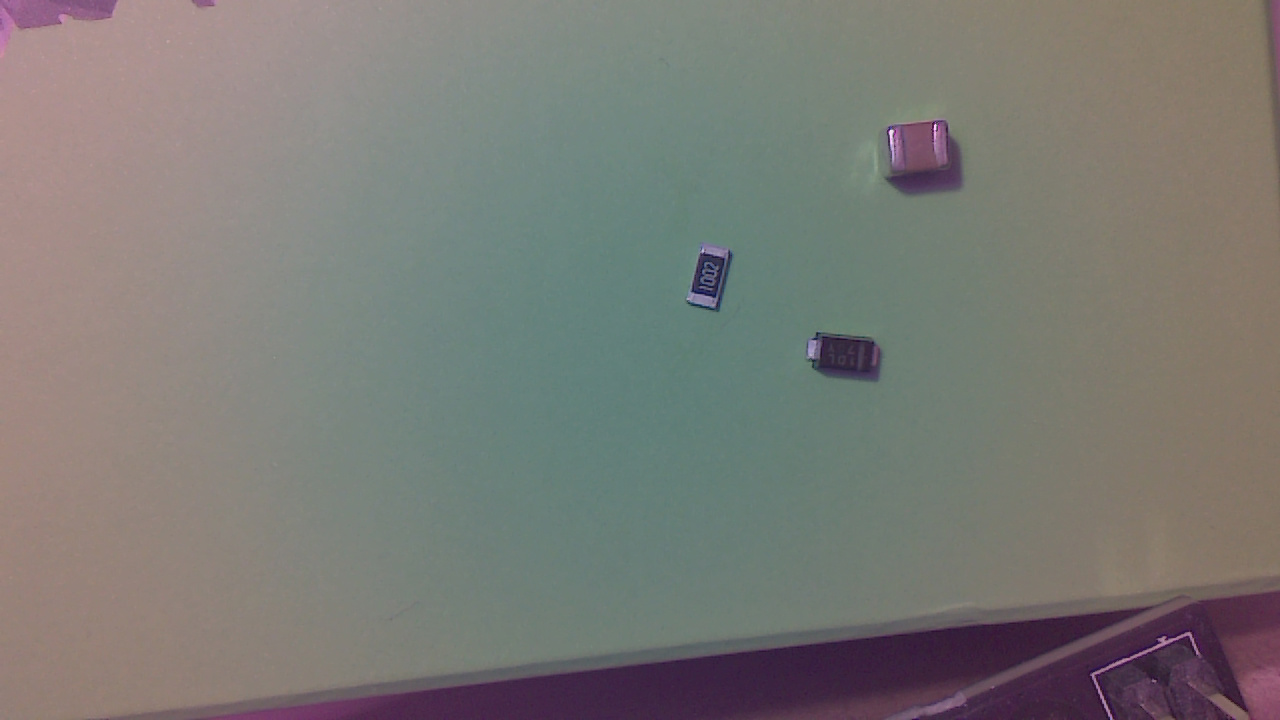Condensator: (883, 130, 952, 197)
Diode: (818, 332, 897, 385)
Resistor: (690, 251, 737, 315)
